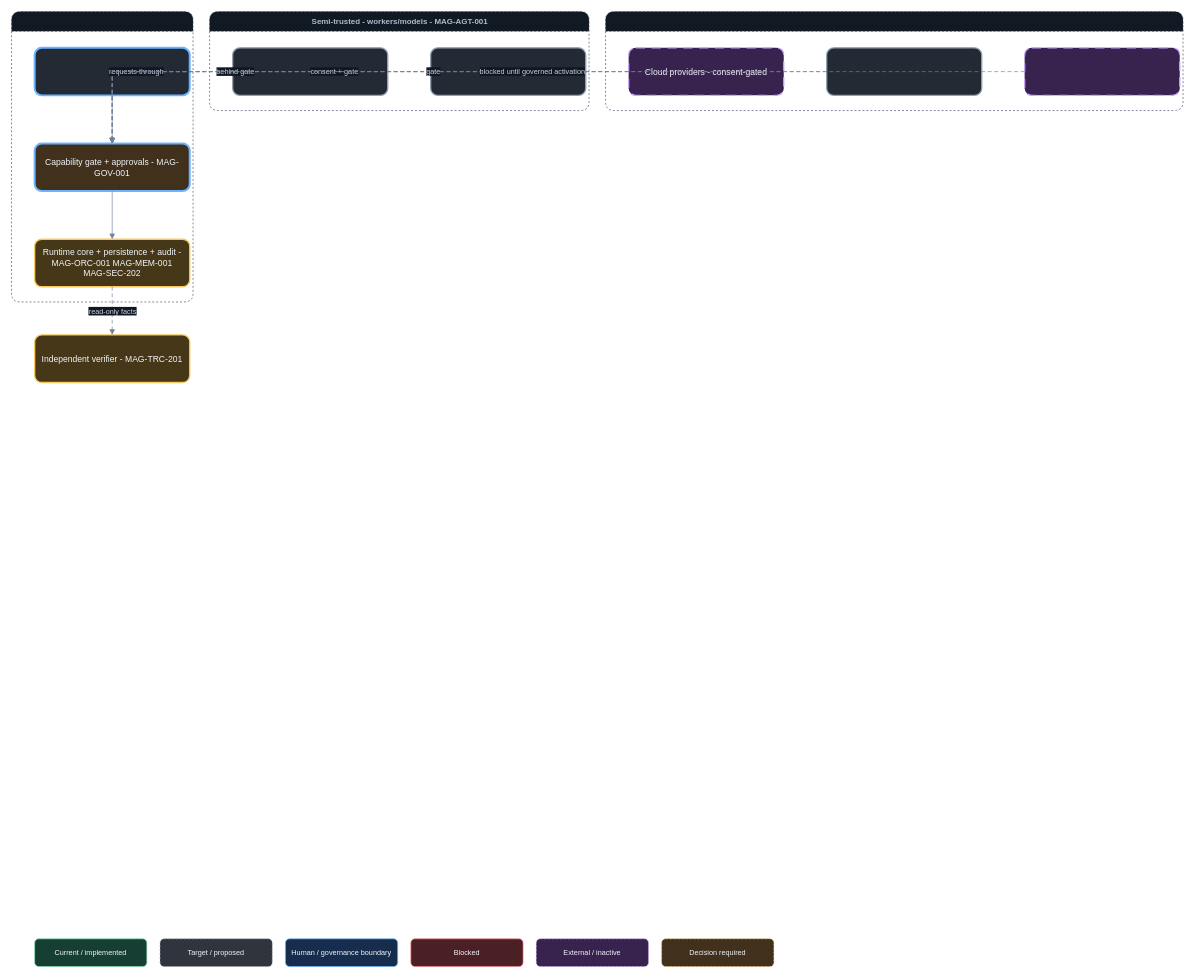
This 1195x978 diagram has some shape labels left out. The box of each missing label's shape, as (x1, y1, x2, y2) in pixels:
Hermes-derived - INACTIVE: (1024, 47, 1180, 96)
Trusted zone - local owner - MAG-SEC-202: (11, 11, 193, 302)
Untrusted/external - EXTERNAL: (605, 11, 1183, 111)
Vinay - authenticated owner: (33, 47, 190, 96)
Web/search - default mock: (826, 47, 982, 96)
Workers - propose only, no self-approve: (232, 47, 388, 96)
